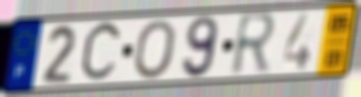2: (40, 24, 78, 85)
4: (281, 12, 312, 74)
9: (180, 15, 221, 80)
C: (77, 18, 125, 87)
O: (131, 18, 178, 82)
R: (228, 10, 280, 80)
